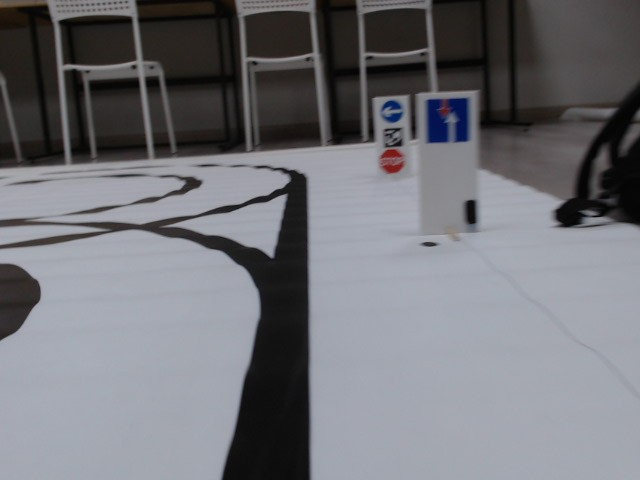Stop: (378, 148, 407, 173)
priority_movement: (422, 95, 470, 146)
